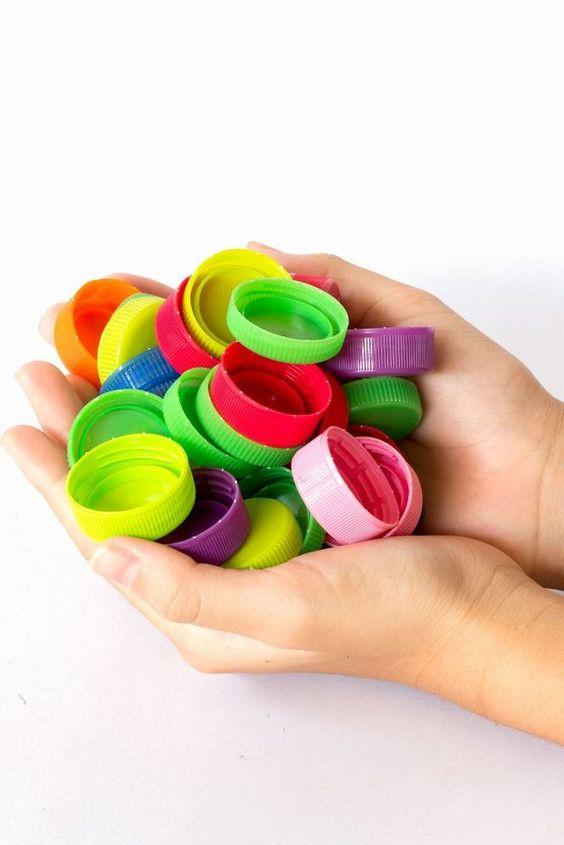HDPE: (163, 365, 302, 480), (64, 431, 198, 545), (208, 337, 334, 449), (289, 424, 401, 545), (182, 245, 295, 360), (225, 276, 350, 364), (153, 463, 254, 567), (52, 275, 143, 390), (67, 387, 178, 470), (98, 292, 174, 397), (327, 325, 437, 380), (222, 497, 302, 571), (340, 373, 424, 443)
